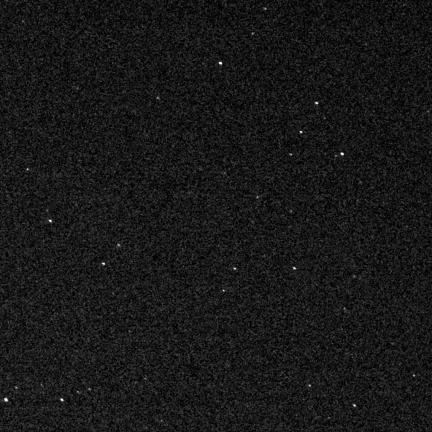blob: (60, 398, 64, 403), (315, 102, 319, 106), (4, 398, 8, 402), (117, 244, 121, 248), (219, 62, 223, 66), (15, 387, 19, 390), (353, 405, 357, 408), (289, 154, 293, 157), (49, 220, 52, 224), (293, 267, 297, 270), (341, 153, 345, 156), (102, 263, 106, 266), (88, 388, 92, 391), (252, 33, 255, 36), (223, 289, 226, 292), (309, 385, 312, 388), (234, 268, 237, 271), (413, 375, 416, 377), (300, 131, 302, 134)
